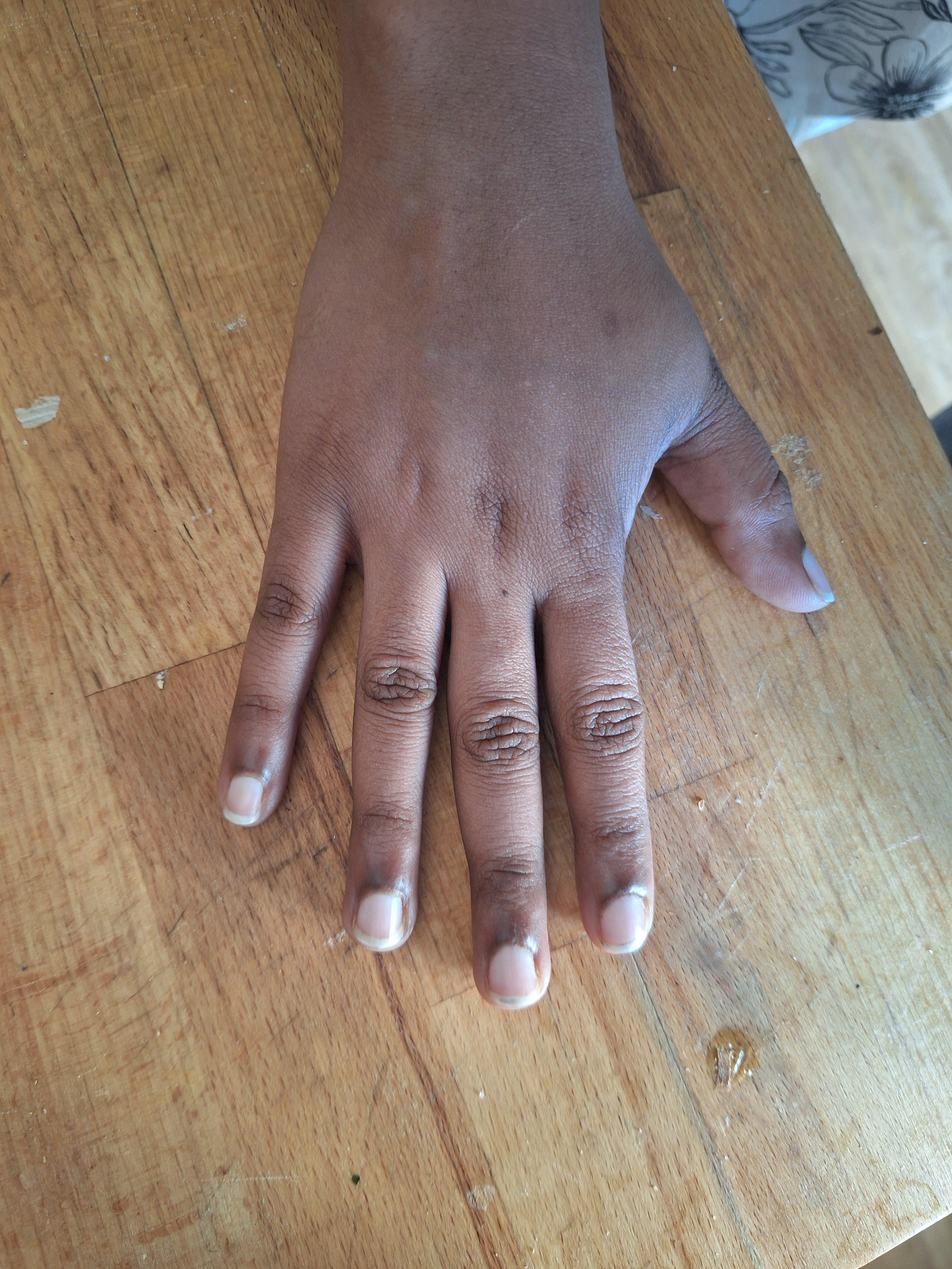Fingernail: (488, 945, 540, 1007), (600, 896, 649, 954), (353, 894, 404, 949), (224, 778, 263, 825), (803, 546, 835, 602)
